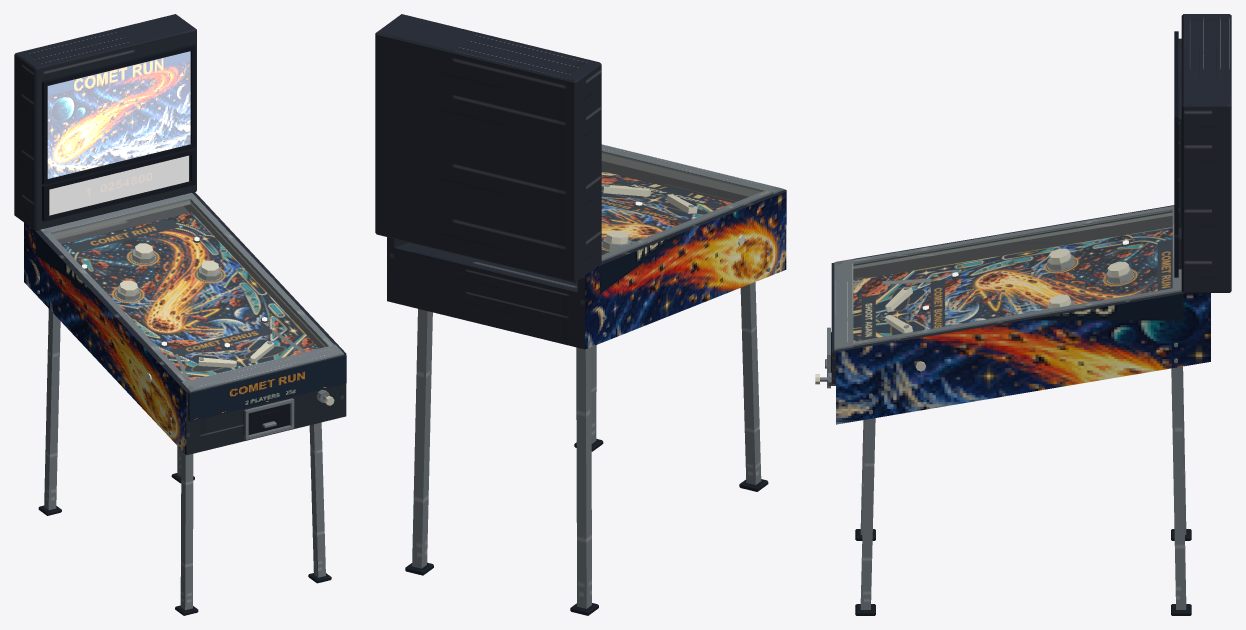
Rendered from pinball_comet.glb.
3 renders of one model, left to right at view 1: azimuth 30°, elevation 25°; view 2: azimuth 150°, elevation 25°; view 3: azimuth 270°, elevation 25°, orthographic. The views are drawn at different scales.
Visible parts, largest first — view 1: arcade_pinball_comet; view 2: arcade_pinball_comet; view 3: arcade_pinball_comet.
Part boxes in pixels (left/top/right/bottom): arcade_pinball_comet: left=14, top=14, right=346, bottom=615; arcade_pinball_comet: left=375, top=14, right=786, bottom=615; arcade_pinball_comet: left=815, top=14, right=1231, bottom=615.
Bounding box in the file's own units: 0.74 × 1.94 × 1.42.
5 materials, 5 textured.
